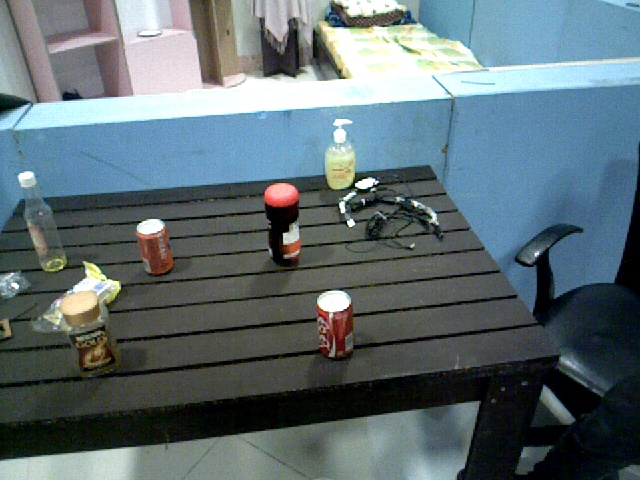coca: (318, 291, 353, 360)
coffee: (59, 293, 121, 381)
cream: (264, 180, 306, 271)
fanta: (135, 218, 175, 277)
